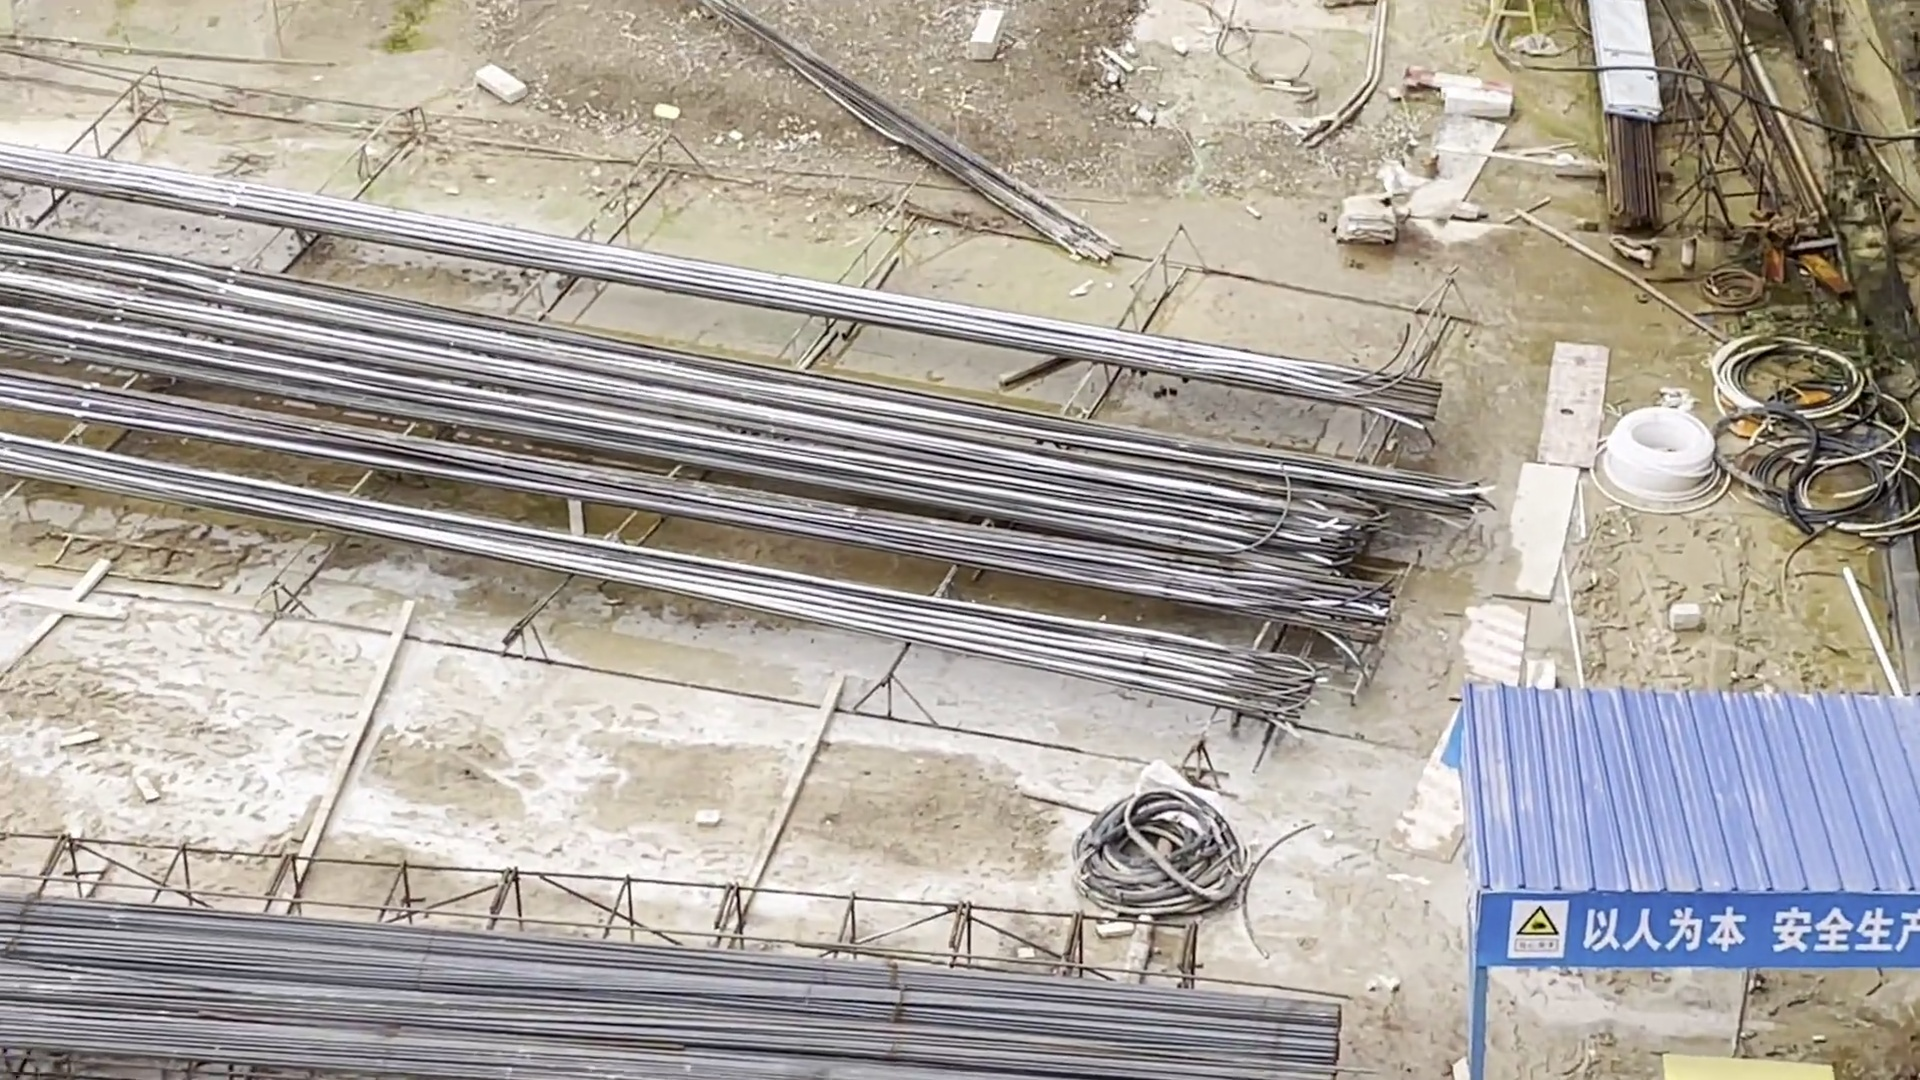rebar: (1, 170, 1422, 687), (8, 880, 1344, 1076)
slogan: (1495, 889, 1920, 967)
